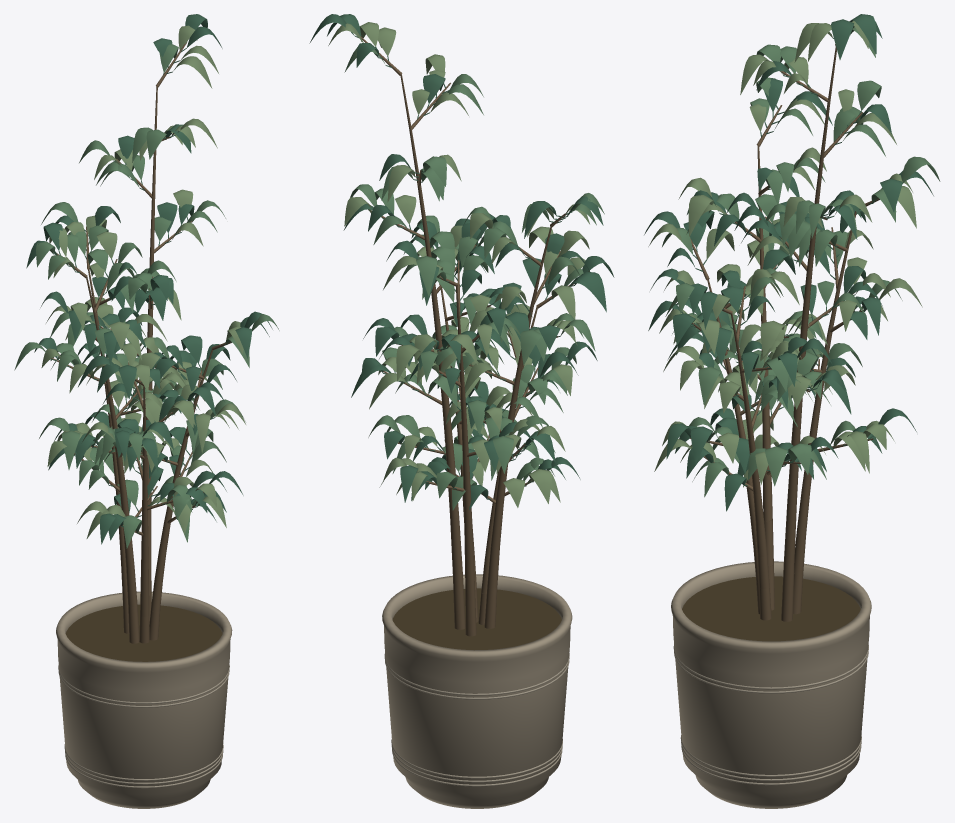
The model's file is bay-planter.glb.
3 renders of one model, left to right at view 1: azimuth 30°, elevation 25°; view 2: azimuth 150°, elevation 25°; view 3: azimuth 270°, elevation 25°, orthographic. The views are drawn at different scales.
Visible parts, largest first — view 1: North Coast bay planter; view 2: North Coast bay planter; view 3: North Coast bay planter.
Boxes of the visible parts, bbox=[...] form: North Coast bay planter: bbox=[14, 14, 279, 808]; North Coast bay planter: bbox=[309, 14, 614, 808]; North Coast bay planter: bbox=[644, 14, 940, 808].
Bounding box in the file's own units: 0.5039 × 1.51 × 0.4968.
